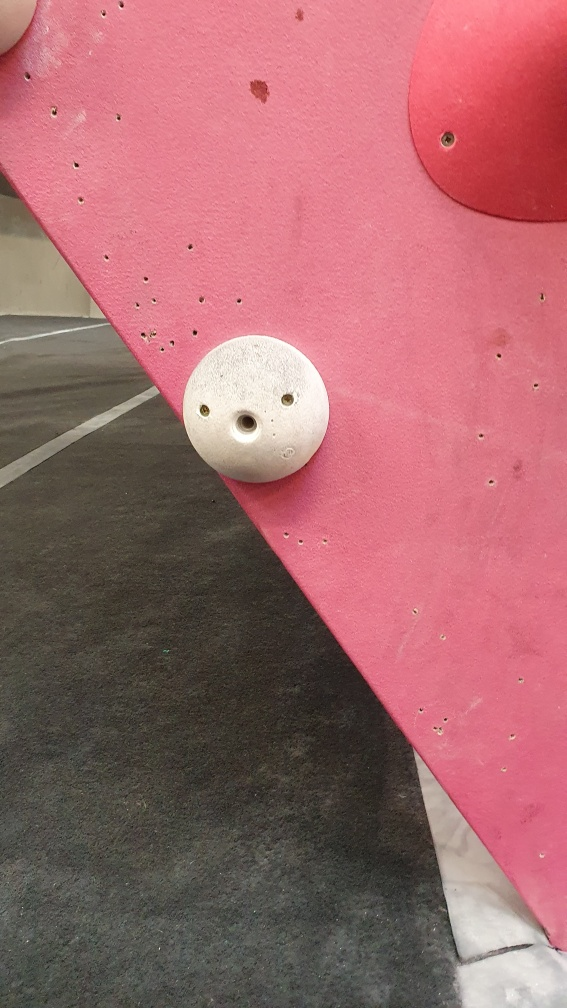Sloper: (177, 331, 335, 490)
